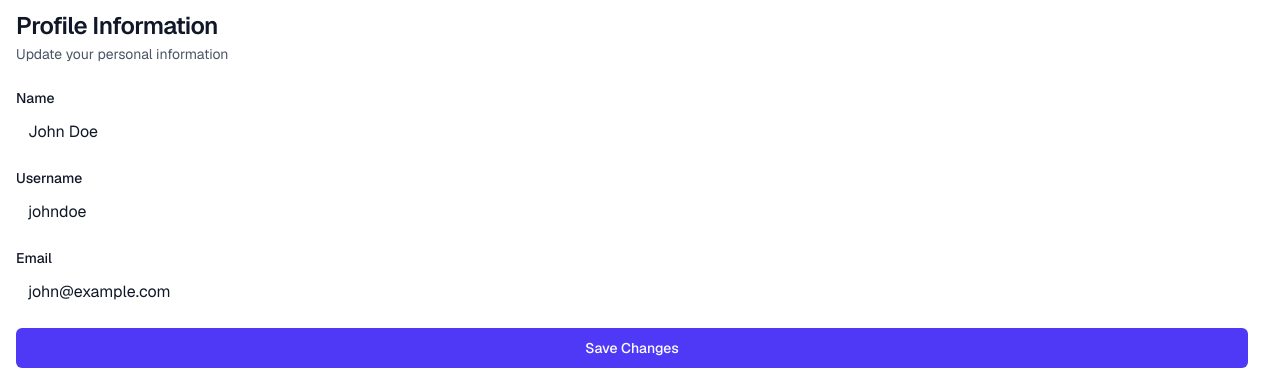
Test: ProfileInformationUpdateClient › should disable form inputs while loading
Step 1. Replace the text in the field labelled "Name" with "New Name" → x=632, y=132, box [16, 112, 1248, 152]
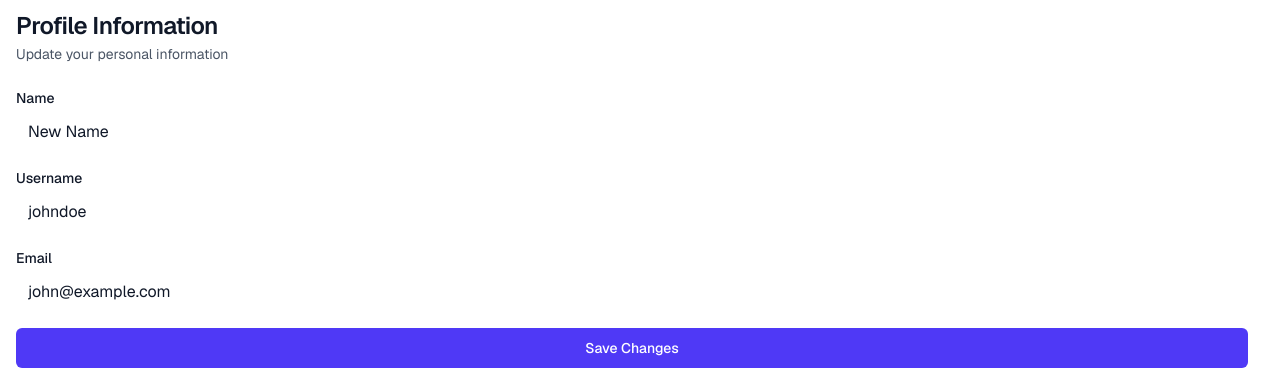
Step 2. Submit the form "Name Username Email Save Changes"
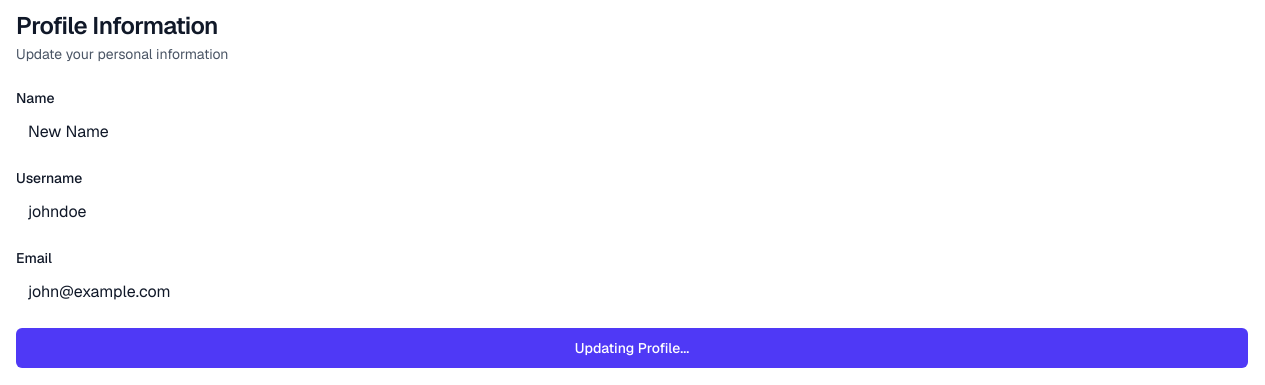
Expected: the field labelled "Name" is disabled, [16, 112, 1248, 152]
Now the button "Updating Profile..." is shown, box [16, 328, 1248, 368]
